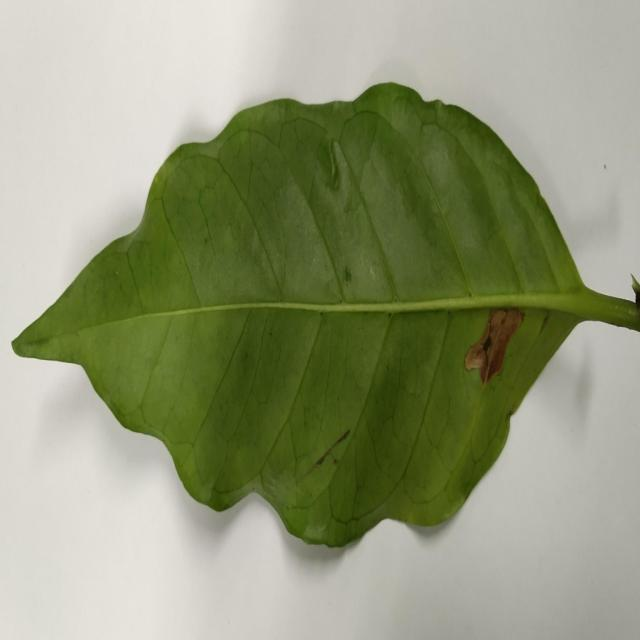miner: (464, 308, 522, 385)
